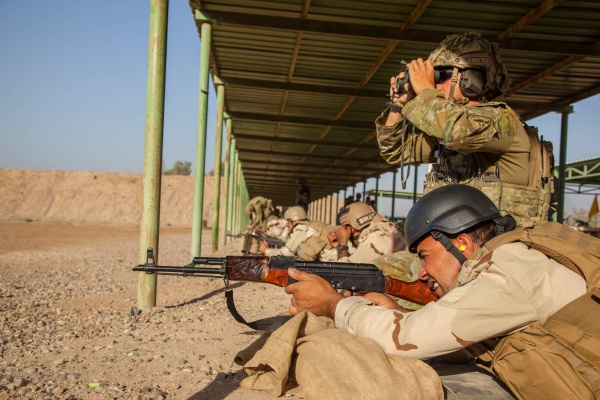ak47: (132, 244, 436, 328)
